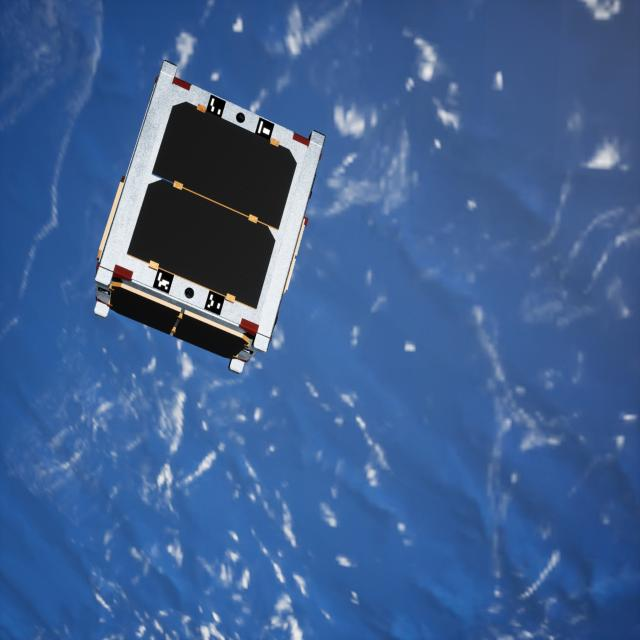medium_debris: (93, 61, 329, 375)
